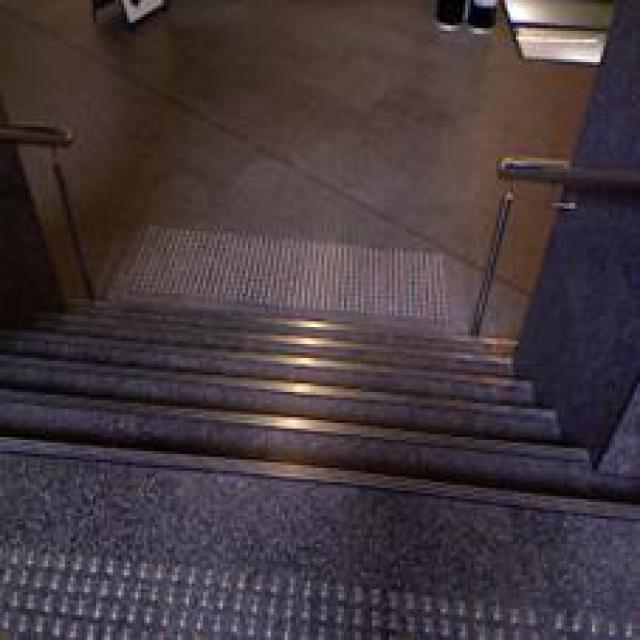stair: (37, 344, 522, 595)
